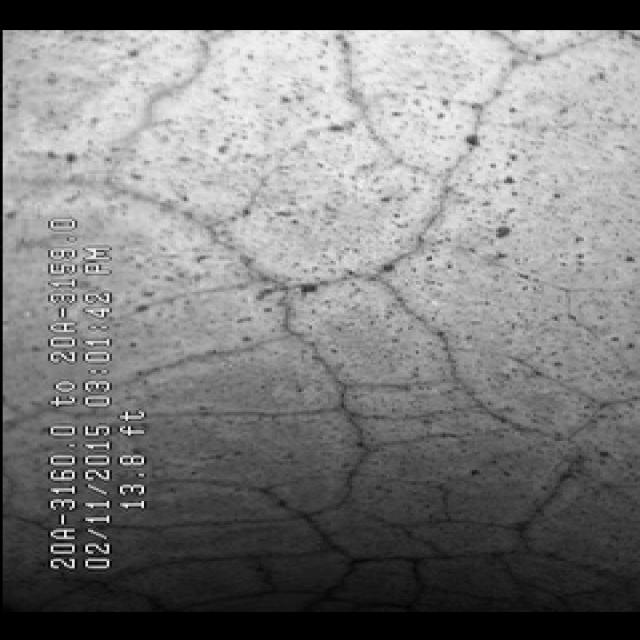Crack: (168, 159, 536, 605)
